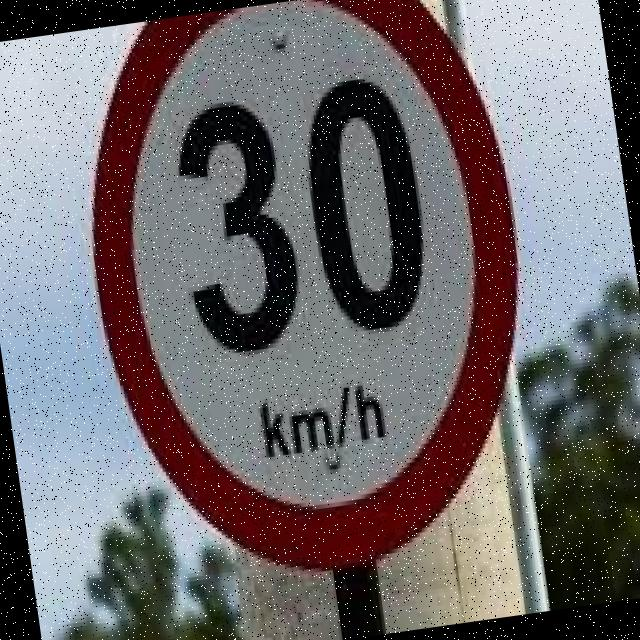speed_limit_30: (51, 0, 578, 615)
